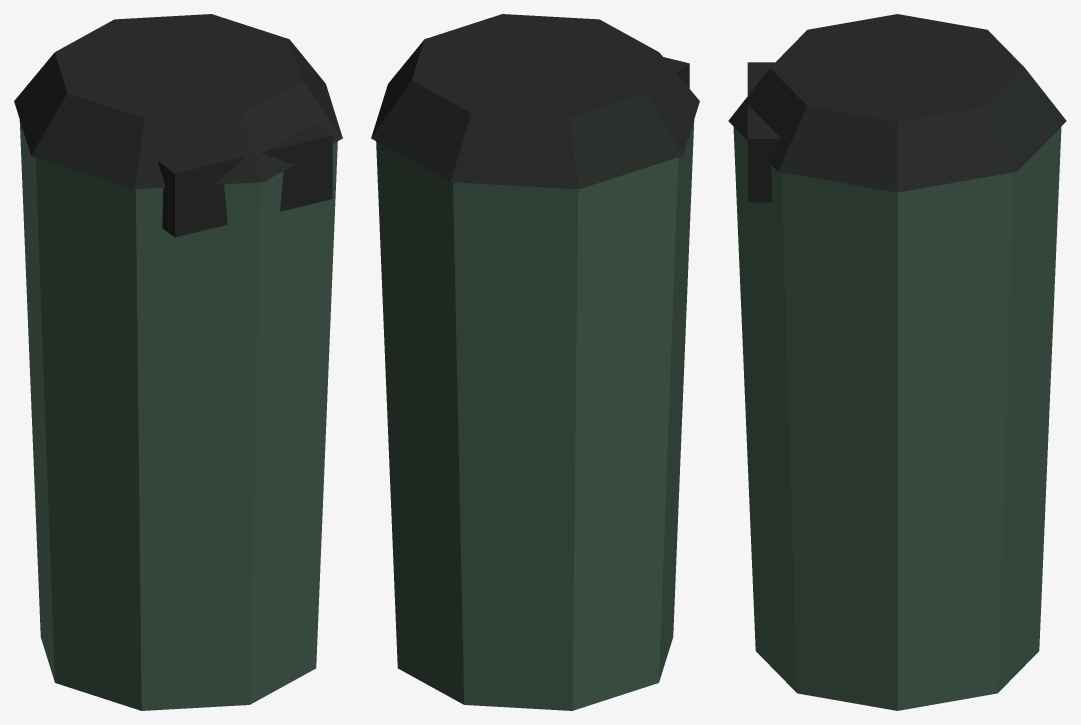
File: bin.glb
3 renders of one model, left to right at view 1: azimuth 30°, elevation 25°; view 2: azimuth 150°, elevation 25°; view 3: azimuth 270°, elevation 25°, orthographic.
Visible parts, largest first — view 1: bin; view 2: bin; view 3: bin.
Part boxes in pixels (<box>): bin: <box>14,14,342,710</box>; bin: <box>371,14,699,710</box>; bin: <box>728,14,1066,710</box>.
Bounding box in the file's own units: 0.542 × 1.03 × 0.542.
